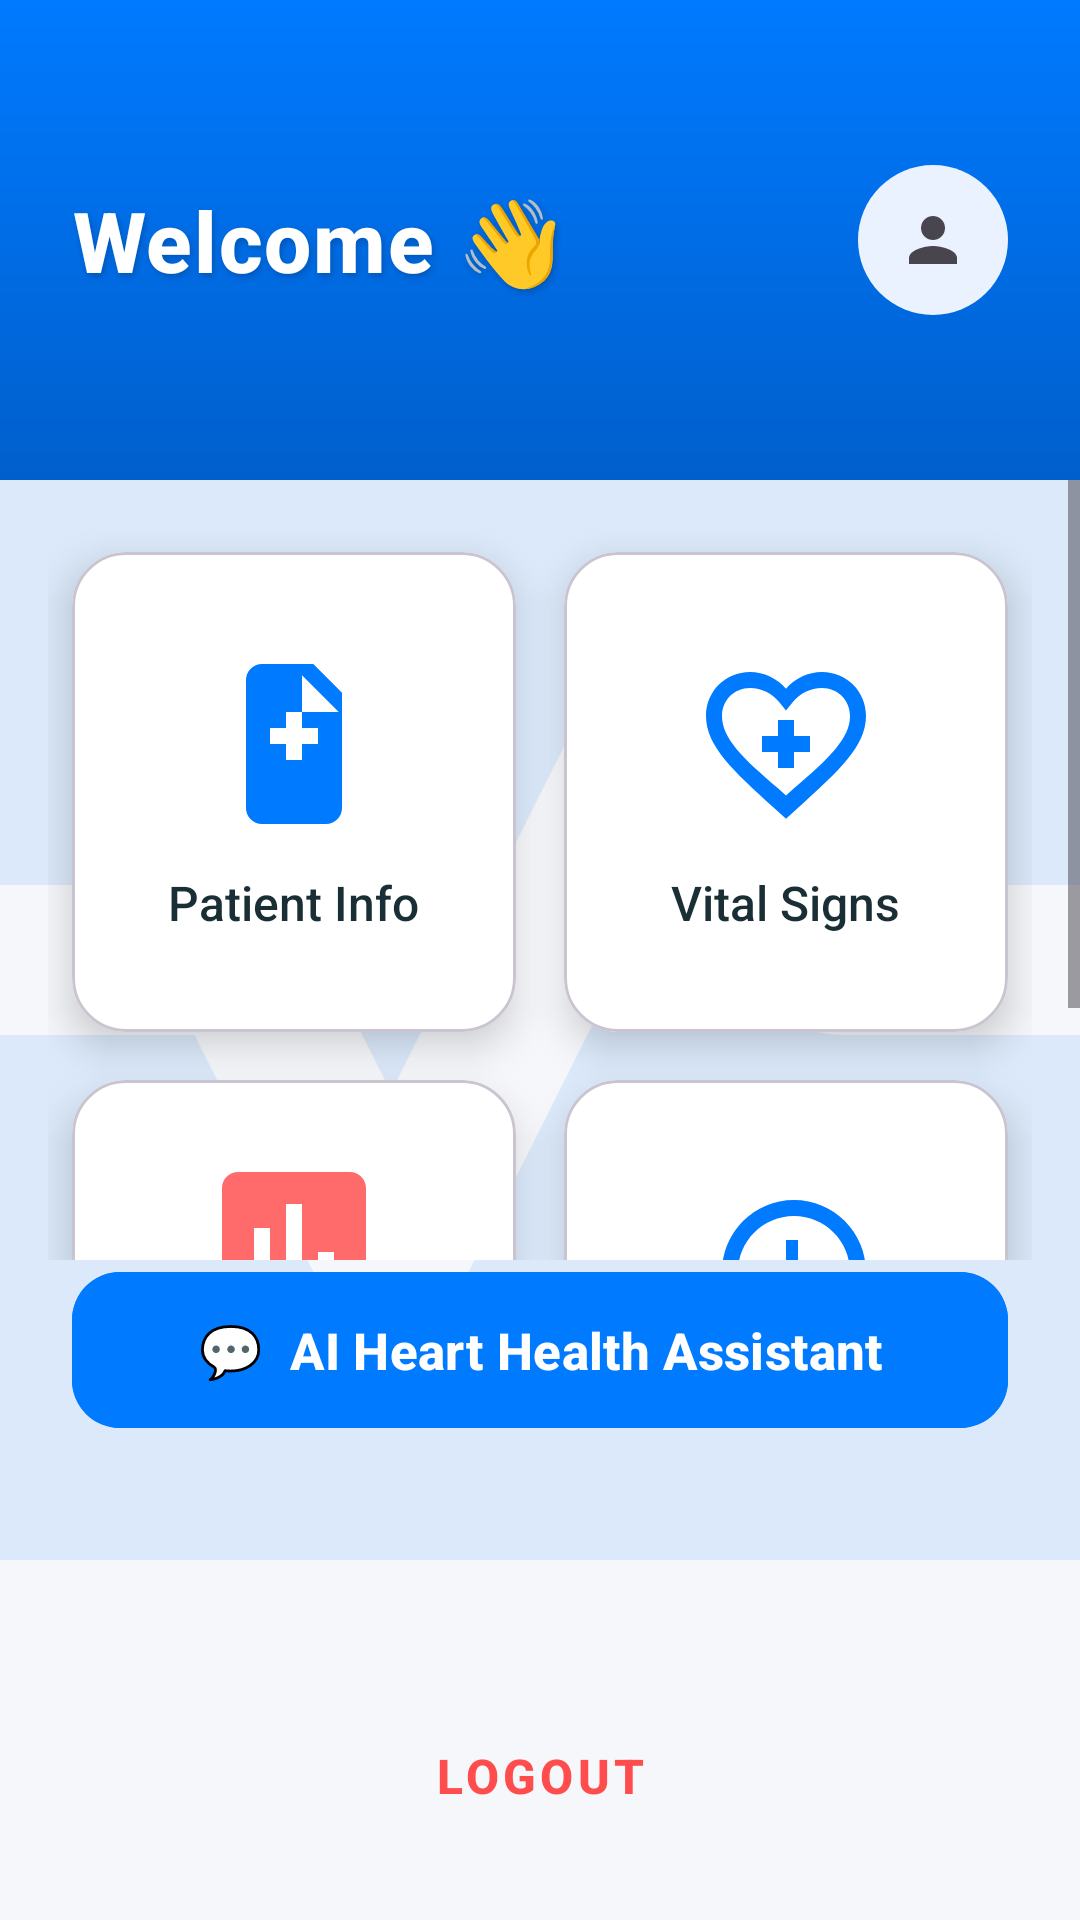

Where icons sit on this 1080px×1920px app screen, as (x1, y1, x2, y2):
Profile: (858, 165, 1008, 315)
